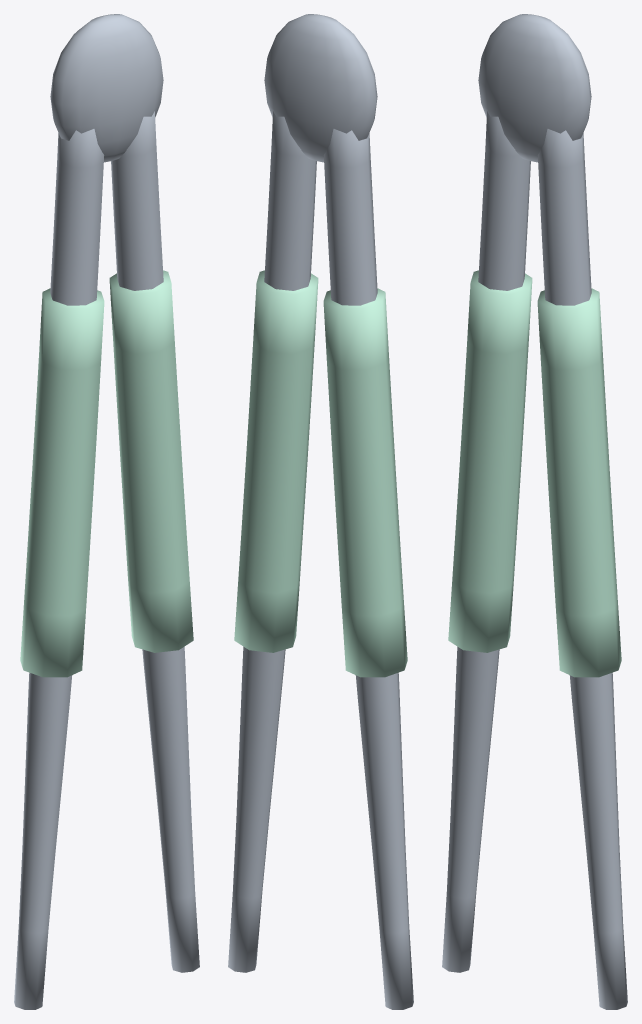
File: Tool_Tweezer.fbx
The picture shows the model from 3 angles, left to right: view 1: azimuth 30°, elevation 25°; view 2: azimuth 150°, elevation 25°; view 3: azimuth 330°, elevation 25°; orthographic projection.
Visible parts, largest first — view 1: Tool_Tweezer; view 2: Tool_Tweezer; view 3: Tool_Tweezer.
Part boxes in pixels (left/top/right/bottom): Tool_Tweezer: left=14, top=14, right=199, bottom=1009; Tool_Tweezer: left=228, top=14, right=413, bottom=1009; Tool_Tweezer: left=442, top=14, right=627, bottom=1009.
Size of the model in its own units: 0.0316 by 0.1602 by 0.0096.
